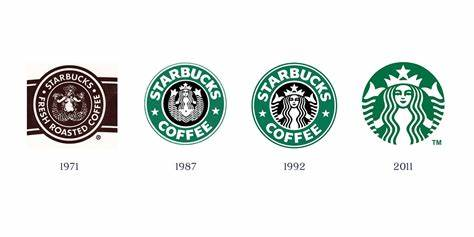starbucks Originale: (355, 56, 457, 154)
